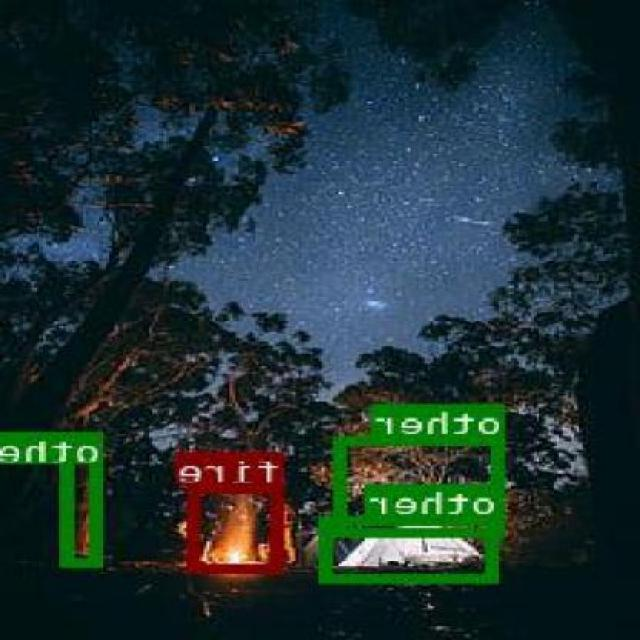Fire: (190, 483, 286, 571)
